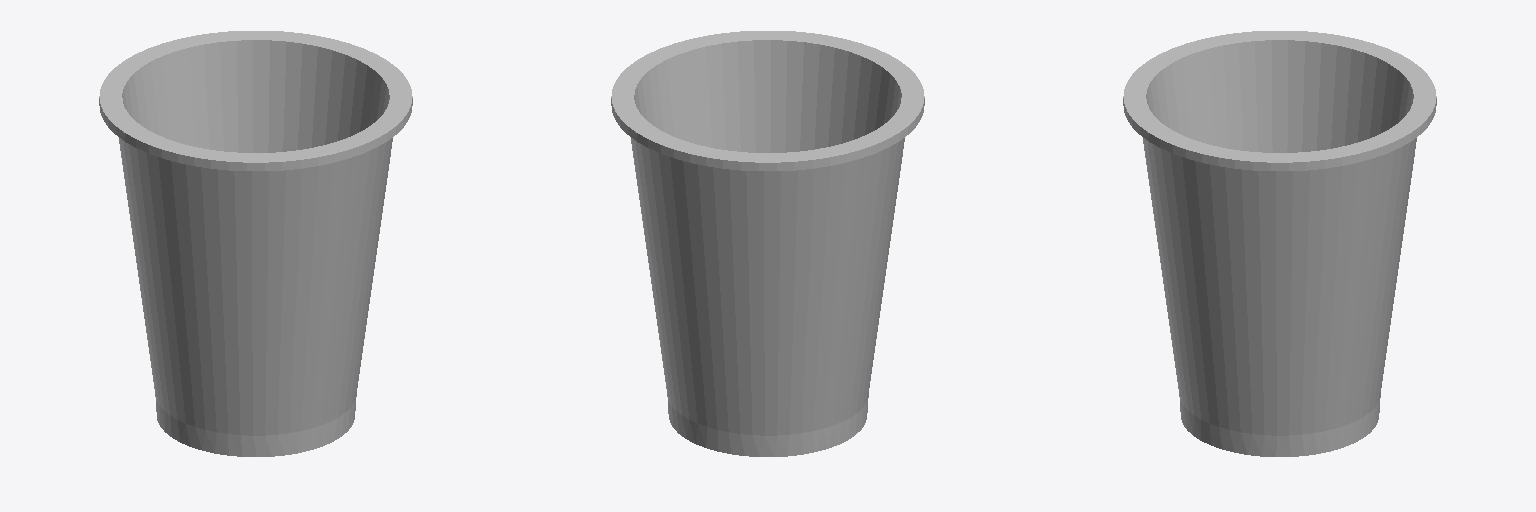
The model's file is red_solo_cup.obj.
The picture shows the model from 3 angles: view 1: azimuth 30°, elevation 25°; view 2: azimuth 150°, elevation 25°; view 3: azimuth 270°, elevation 25°; orthographic projection.
Bounding box in the file's own units: 98.13 × 110 × 98.3.